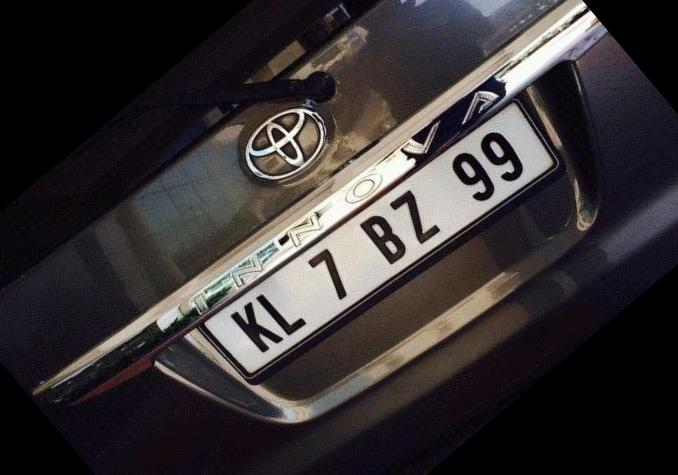plate: (182, 59, 592, 437)
